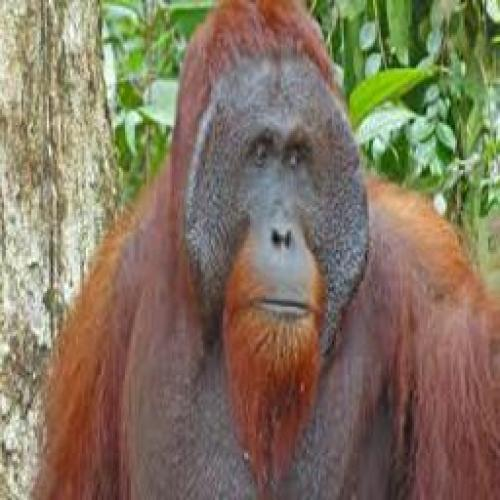orangutan-endangered: (47, 6, 498, 500)
